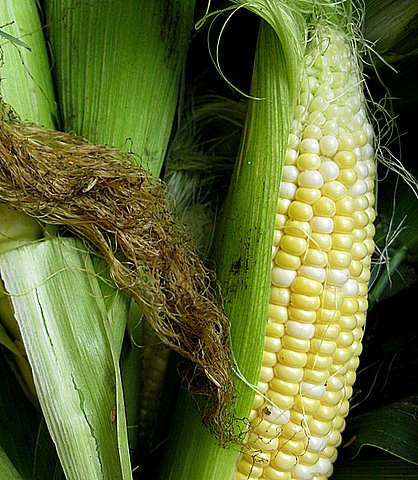corn: (174, 18, 379, 478)
